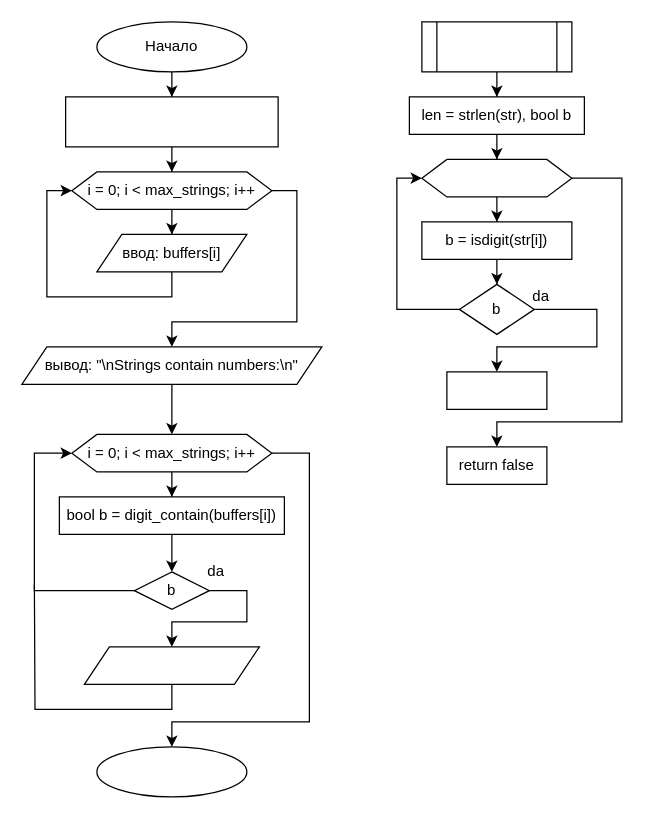
This 654x819 diagram has some shape labels left out. Each missing label, with the centre of its shape:
"digit_contain" belongs at [496,46].
"i = 0; i < len; i++" belongs at [496,177].
"max_strings = 8, i char buffers[max_strings][32];" belongs at [171,121].
"return true" belongs at [496,390].
"вывод: buffers[i]" belongs at [171,665].
"Конец" belongs at [171,771].
